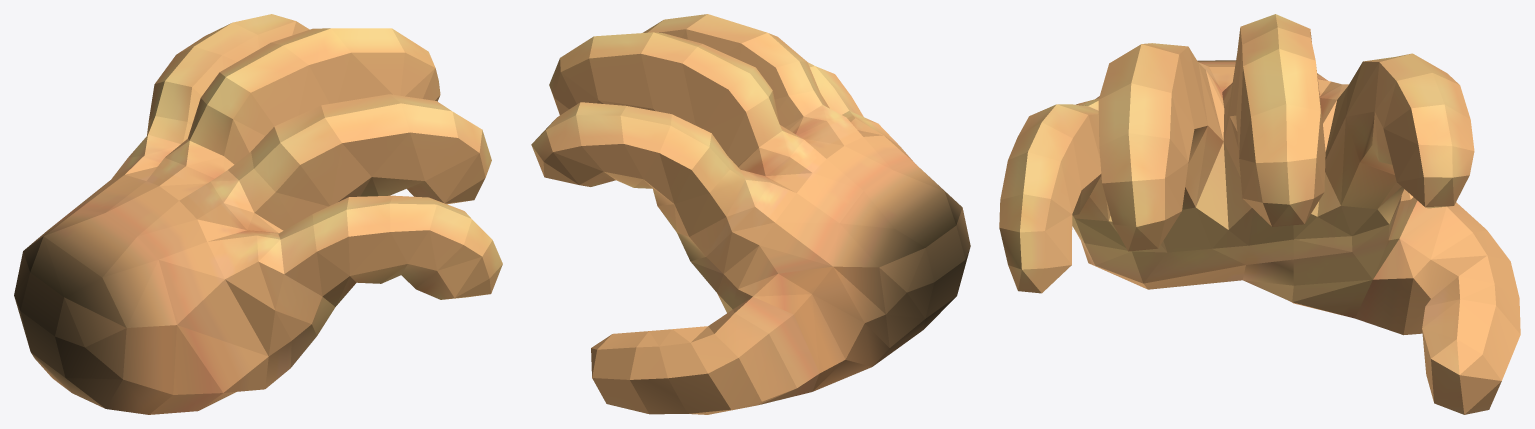
Rendered from right hand 4.obj.
The picture shows the model from 3 angles, left to right: view 1: azimuth 30°, elevation 25°; view 2: azimuth 150°, elevation 25°; view 3: azimuth 270°, elevation 25°; orthographic projection. The views are drawn at different scales.
Visible parts, largest first — view 1: n0b0_n0b0.003; view 2: n0b0_n0b0.003; view 3: n0b0_n0b0.003.
Boxes of the visible parts, x1,y1,x2,y2 form: n0b0_n0b0.003: [14, 14, 502, 414]; n0b0_n0b0.003: [531, 14, 970, 414]; n0b0_n0b0.003: [999, 14, 1520, 414].
Bounding box in the file's own units: 7.18 × 5.49 × 6.74.
1 material, 1 textured.
